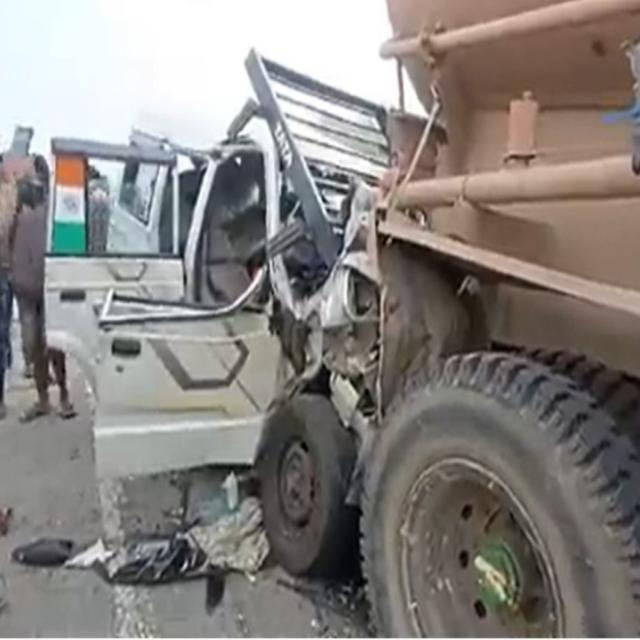accident: (45, 50, 389, 575)
